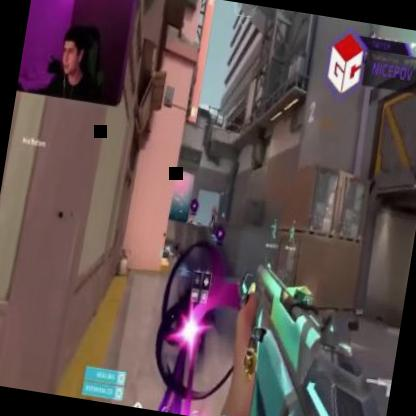enemy: (209, 202, 218, 228)
enemy_head: (212, 203, 218, 211)
